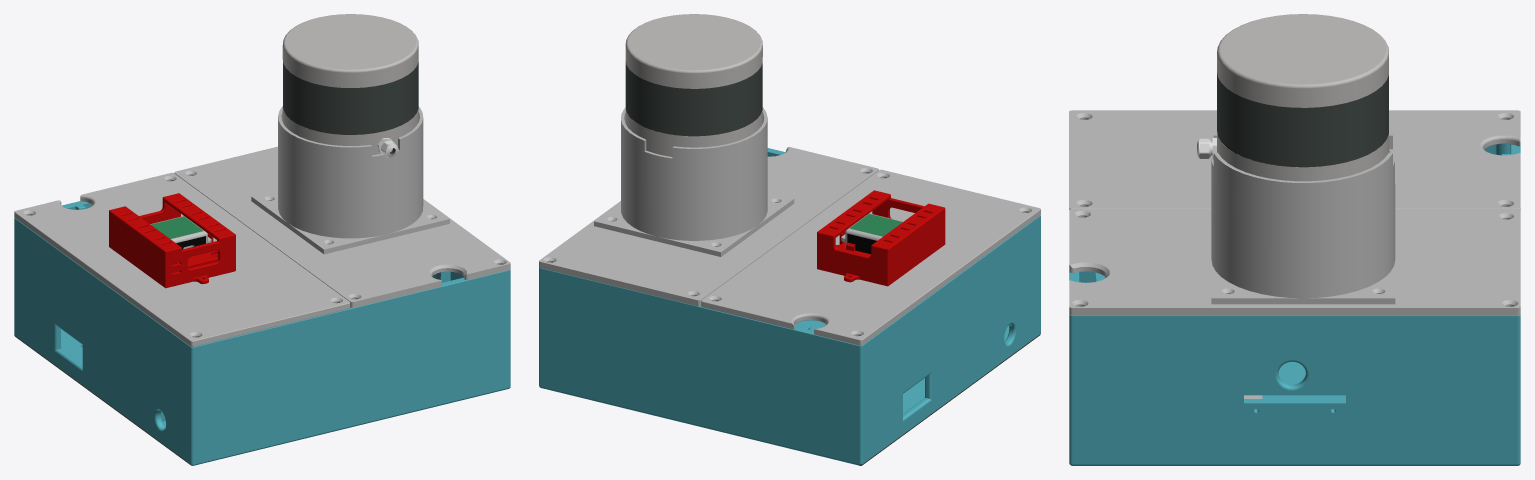
File: sensors.dae
The picture shows the model from 3 angles, left to right: view 1: azimuth 30°, elevation 25°; view 2: azimuth 150°, elevation 25°; view 3: azimuth 270°, elevation 25°; orthographic projection. The views are drawn at different scales.
Parts seen in each view (by area): view 1: Solid2, Solid1_ncl1_5, Solid1_ncl1_3, Solid1_ncl1_2, Solid1_ncl1_1, Solid1_ncl1_7, Solid1_ncl1_6; view 2: Solid2, Solid1_ncl1_5, Solid1_ncl1_3, Solid1_ncl1_2, Solid1_ncl1_1, Solid1_ncl1_7, Solid1_ncl1_6; view 3: Solid2, Solid1_ncl1_1, Solid1_ncl1_3, Solid1_ncl1_5, Solid1_ncl1_2.
Boxes of the visible parts, x1,y1,x2,y2 form: Solid2: (14, 201, 510, 465); Solid1_ncl1_5: (14, 172, 350, 346); Solid1_ncl1_3: (282, 14, 418, 157); Solid1_ncl1_2: (251, 106, 449, 254); Solid1_ncl1_1: (174, 146, 510, 307); Solid1_ncl1_7: (109, 193, 235, 288); Solid1_ncl1_6: (150, 216, 211, 249); Solid2: (539, 148, 1040, 465); Solid1_ncl1_5: (701, 169, 1040, 345); Solid1_ncl1_3: (625, 14, 762, 156); Solid1_ncl1_2: (594, 107, 794, 256); Solid1_ncl1_1: (539, 147, 878, 306); Solid1_ncl1_7: (817, 190, 945, 286); Solid1_ncl1_6: (841, 213, 903, 254); Solid2: (1069, 144, 1520, 465); Solid1_ncl1_1: (1069, 209, 1520, 315); Solid1_ncl1_3: (1197, 14, 1388, 181); Solid1_ncl1_5: (1069, 110, 1520, 209); Solid1_ncl1_2: (1211, 130, 1395, 304).
Size of the model in its own units: 11.02 by 10.63 by 9.75.
